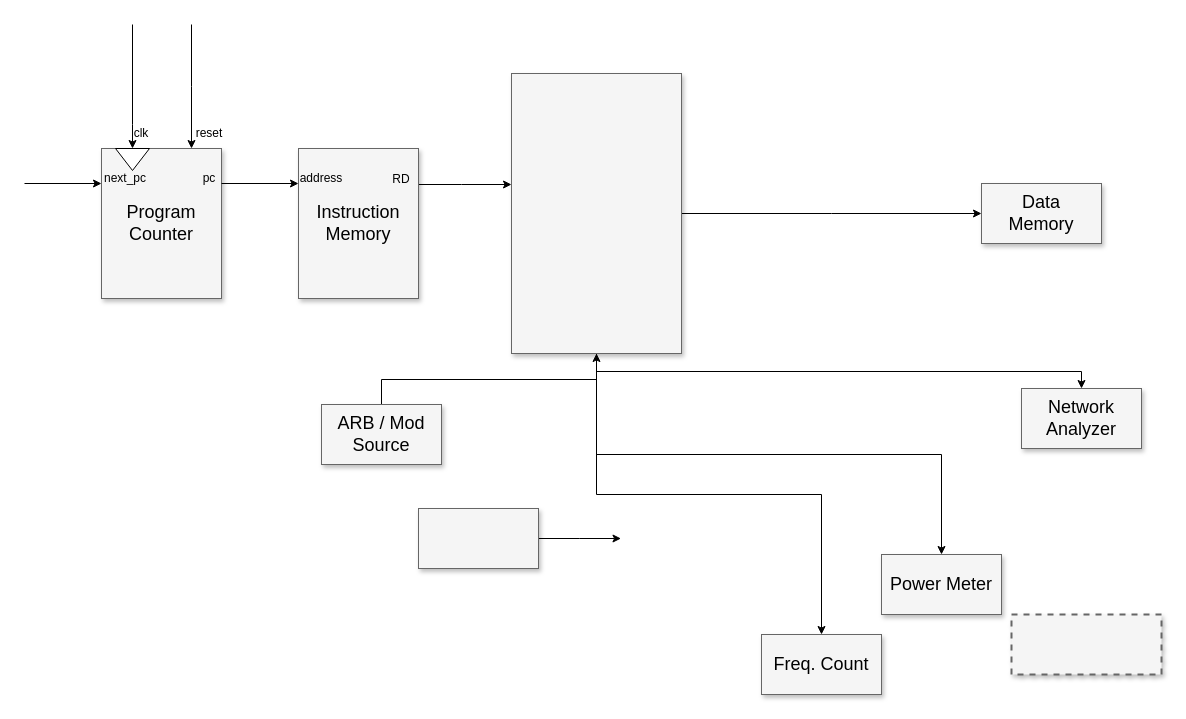
The diagram is 1186 pixels wide and 719 high, and some of its shapes have lost their labels. Each missing label, with the centre of its shape:
"DC Power Supplies" goes at point (479, 540).
"Register File" goes at point (597, 214).
"Software Control" goes at point (1087, 645).
